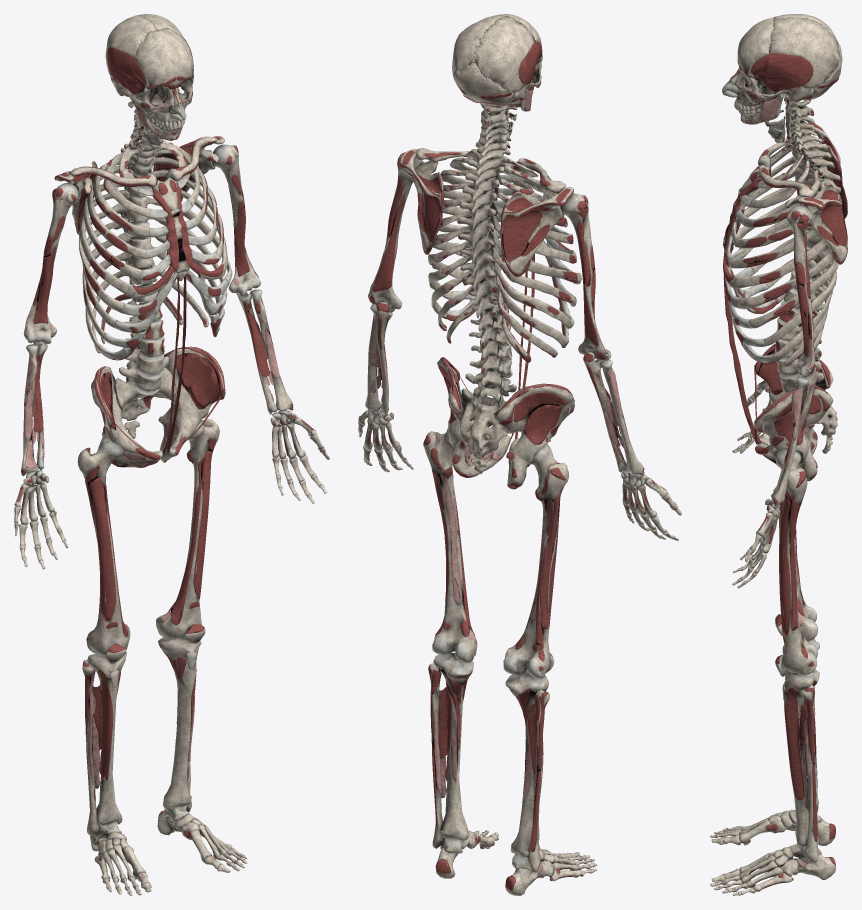
Rendered from skeletal.opt.glb.
The picture shows the model from 3 angles, left to right: view 1: azimuth 30°, elevation 25°; view 2: azimuth 150°, elevation 25°; view 3: azimuth 270°, elevation 25°; orthographic projection. The views are drawn at different scales.
Visible parts, largest first — view 1: tibia-l, femur-r, frontal-bone, femur-l, hip-bone-l, vastus-intermedius-muscle-origin-r, tibia-r, humerus-l, iliacus-muscle-origin-l, humerus-r, hip-bone-r, sacrum (+19 smaller); view 2: femur-l, femur-r, parietal-bone-r, tibia-l, hip-bone-r, sacrum, tibia-r, hip-bone-l, scapula-r, humerus-r, occipital-bone, infraspinatus-muscle-origin-r (+19 smaller); view 3: parietal-bone-l, femur-l, hip-bone-l, humerus-l, tibialis-anterior-muscle-origin-l, tibia-l, frontal-bone, vastus-intermedius-muscle-origin-l, temporalis-muscle-origin-2-origin-l, scapula-l, fibula-l, vastus-lateralis-muscle-origin-l (+37 smaller).
Part boxes in pixels (x1,y1,x2,y2): tibia-l: [158, 633, 200, 811]; femur-r: [78, 436, 130, 655]; frontal-bone: [134, 28, 193, 91]; femur-l: [156, 419, 219, 639]; hip-bone-l: [158, 347, 225, 461]; vastus-intermedius-muscle-origin-r: [89, 477, 116, 621]; tibia-r: [87, 652, 126, 825]; humerus-l: [213, 144, 260, 296]; iliacus-muscle-origin-l: [176, 353, 219, 409]; humerus-r: [24, 183, 78, 344]; hip-bone-r: [91, 366, 162, 467]; sacrum: [115, 367, 175, 420]; femur-l: [424, 427, 477, 662]; femur-r: [503, 444, 568, 678]; parietal-bone-r: [474, 16, 535, 93]; tibia-l: [433, 652, 473, 840]; hip-bone-r: [495, 384, 574, 488]; sacrum: [459, 388, 507, 458]; tibia-r: [505, 671, 548, 857]; hip-bone-l: [437, 357, 510, 477]; scapula-r: [501, 187, 573, 275]; humerus-r: [561, 193, 611, 361]; occipital-bone: [453, 63, 514, 106]; infraspinatus-muscle-origin-r: [503, 207, 549, 260]; parietal-bone-l: [764, 17, 840, 89]; femur-l: [775, 448, 817, 674]; hip-bone-l: [755, 386, 833, 480]; humerus-l: [786, 205, 815, 377]; tibialis-anterior-muscle-origin-l: [784, 687, 804, 800]; tibia-l: [783, 669, 819, 846]; frontal-bone: [737, 17, 774, 78]; vastus-intermedius-muscle-origin-l: [779, 495, 790, 635]; temporalis-muscle-origin-2-origin-l: [764, 53, 813, 86]; scapula-l: [785, 185, 847, 264]; fibula-l: [800, 684, 818, 863]; vastus-lateralis-muscle-origin-l: [785, 490, 798, 630].
Bounding box in the file's own units: 0.6693 × 1.7 × 0.2506.
8 materials, 8 textured.
